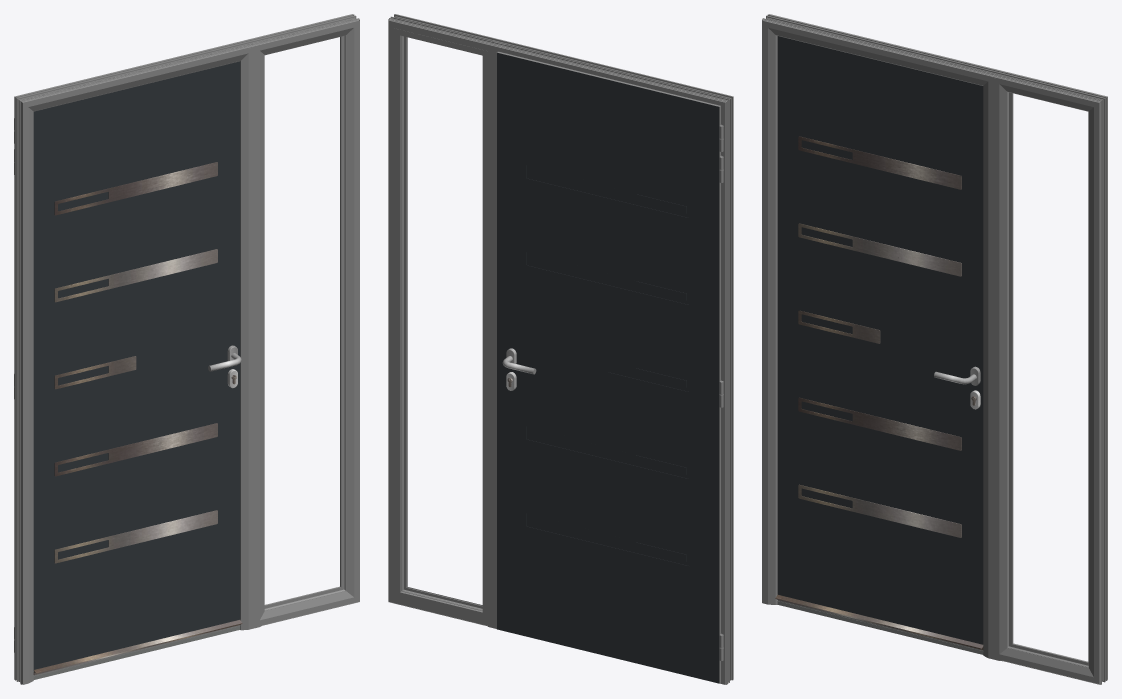
The picture shows the model from 3 angles, left to right: view 1: azimuth 30°, elevation 25°; view 2: azimuth 150°, elevation 25°; view 3: azimuth 330°, elevation 25°; orthographic projection.
Parts seen in each view (by area): view 1: bloco_086, Rectangle002, Line004, alunox_052, Object, Object001, Line005, Rectangle005, Rectangle003; view 2: bloco_086, Rectangle002, Rectangle003, Line004, Object001, Rectangle004, Object; view 3: bloco_086, Rectangle002, Line004, alunox_052, Object001, Object, Line005, Rectangle003, Rectangle005.
Part boxes in pixels (x1,y1,x2,y2): bloco_086: [33, 61, 240, 671]; Rectangle002: [14, 14, 359, 684]; Line004: [240, 46, 264, 630]; alunox_052: [54, 162, 217, 563]; Object: [33, 35, 346, 680]; Object001: [264, 36, 344, 608]; Line005: [33, 620, 242, 674]; Rectangle005: [33, 625, 240, 679]; Rectangle003: [264, 37, 340, 605]; bloco_086: [497, 52, 719, 683]; Rectangle002: [388, 14, 733, 684]; Rectangle003: [394, 28, 487, 619]; Line004: [488, 41, 504, 628]; Object001: [401, 36, 482, 610]; Rectangle004: [496, 51, 720, 683]; Object: [404, 36, 482, 608]; bloco_086: [777, 36, 983, 644]; Rectangle002: [762, 14, 1107, 684]; Line004: [983, 77, 1007, 661]; alunox_052: [798, 136, 961, 537]; Object001: [1007, 92, 1088, 665]; Object: [776, 35, 1088, 667]; Line005: [775, 595, 983, 649]; Rectangle003: [1012, 93, 1087, 662]; Rectangle005: [777, 600, 983, 654].
Size of the model in its own units: 1307 by 2150 by 192.
6 materials, 4 textured.
